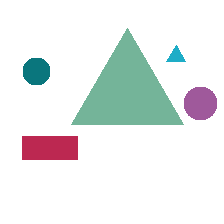circle: (184, 87, 216, 119), (23, 58, 49, 84)
rectangle: (22, 136, 77, 159)
triangle: (71, 28, 183, 124), (166, 45, 185, 61)
